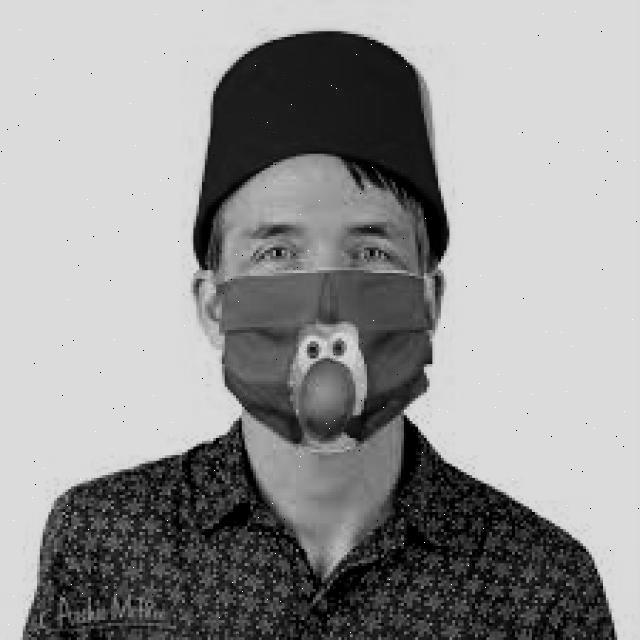fake: (216, 266, 434, 457)
real: (215, 155, 426, 458)
